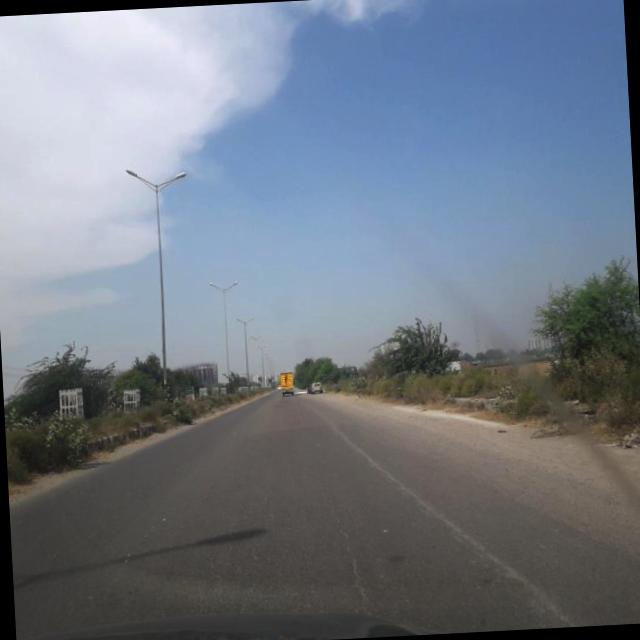pothole: (337, 408, 578, 636), (330, 504, 373, 604), (235, 476, 278, 576)
